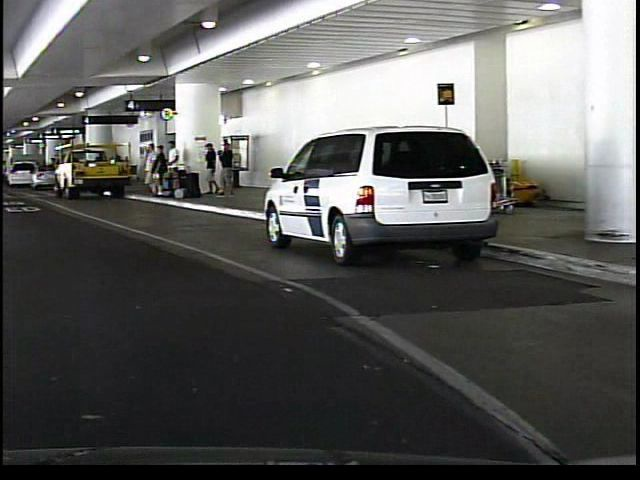person: (214, 140, 231, 199), (136, 141, 151, 198)
